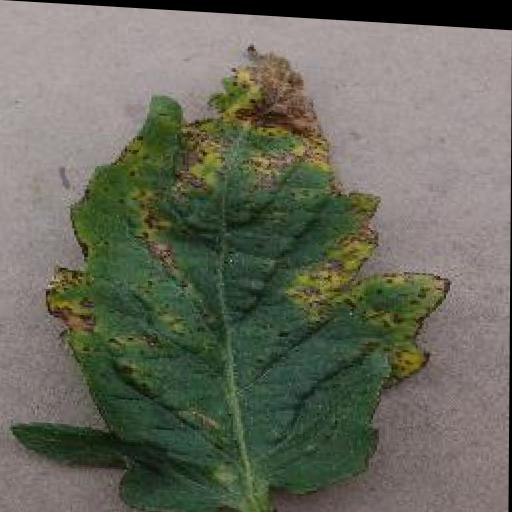Bacterial Spot: (9, 26, 452, 512)
